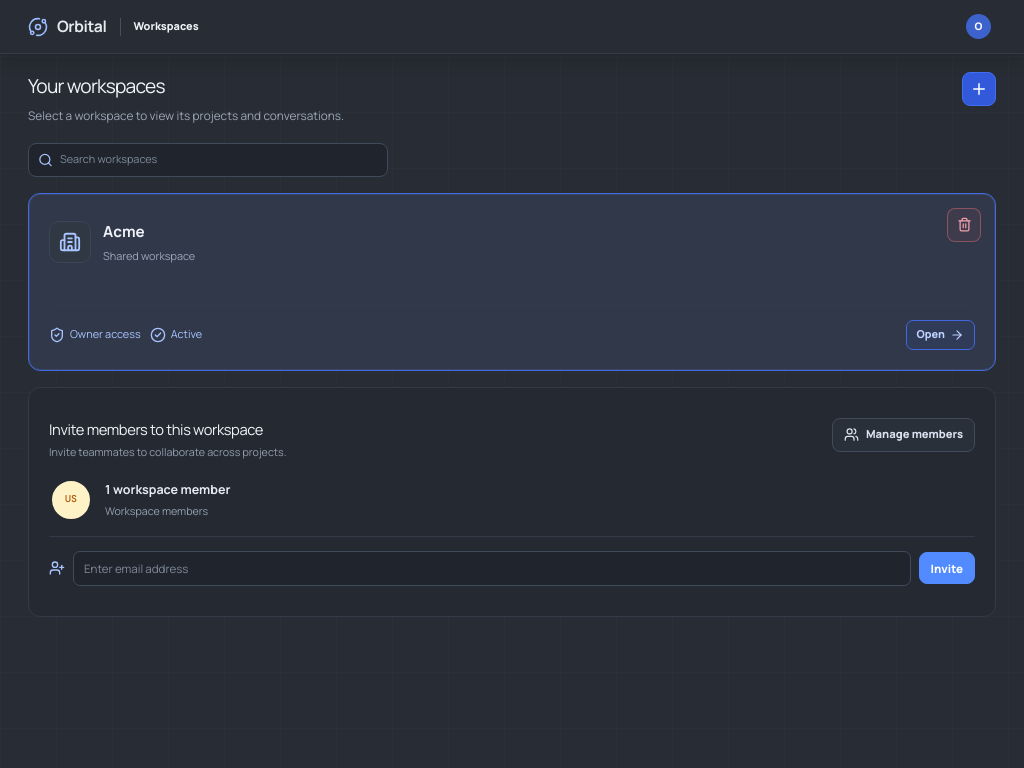
it: ChatApp › keeps workspace creation available after a workspace exists
Check: the heading "Your workspaces" is shown, box [28, 73, 165, 99]
Click the button named "New workspace". click: (979,89)
box: [962, 72, 996, 106]
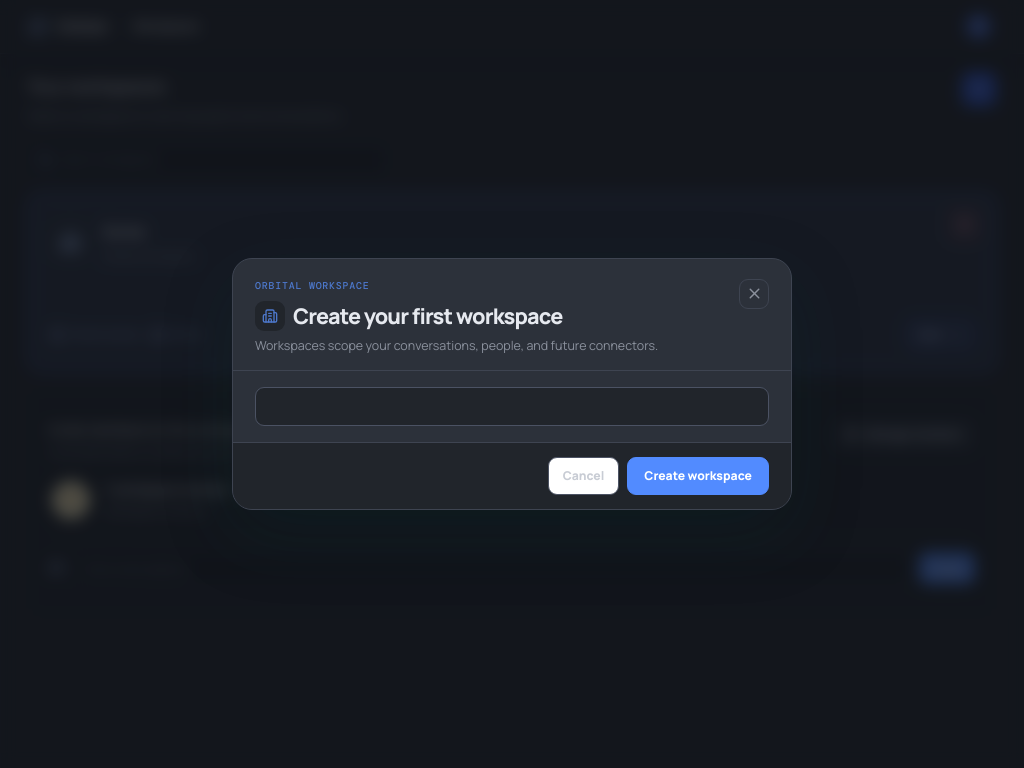
Check: the field named "Workspace name" is shown, box [255, 387, 769, 426]
